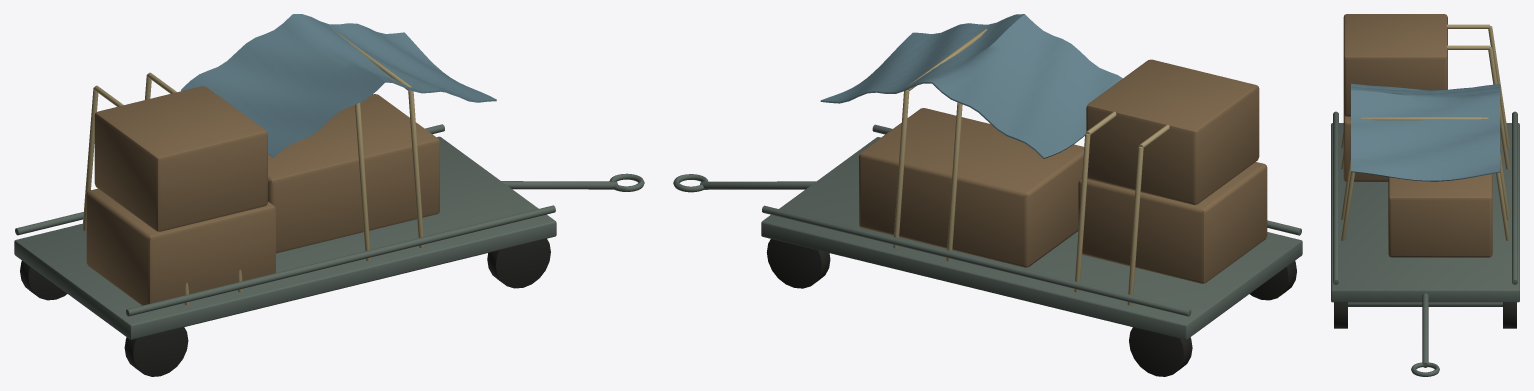
The model's file is AirCargoTrolley08.fbx.
The picture shows the model from 3 angles, left to right: view 1: azimuth 30°, elevation 25°; view 2: azimuth 150°, elevation 25°; view 3: azimuth 270°, elevation 25°; orthographic projection. The views are drawn at different scales.
Visible parts, largest first — view 1: AirCargoTrolley08; view 2: AirCargoTrolley08; view 3: AirCargoTrolley08.
Boxes of the visible parts, x1,y1,x2,y2 form: AirCargoTrolley08: [14, 14, 644, 376]; AirCargoTrolley08: [673, 14, 1302, 376]; AirCargoTrolley08: [1331, 14, 1519, 376].
Size of the model in its own units: 535 by 190 by 206.
